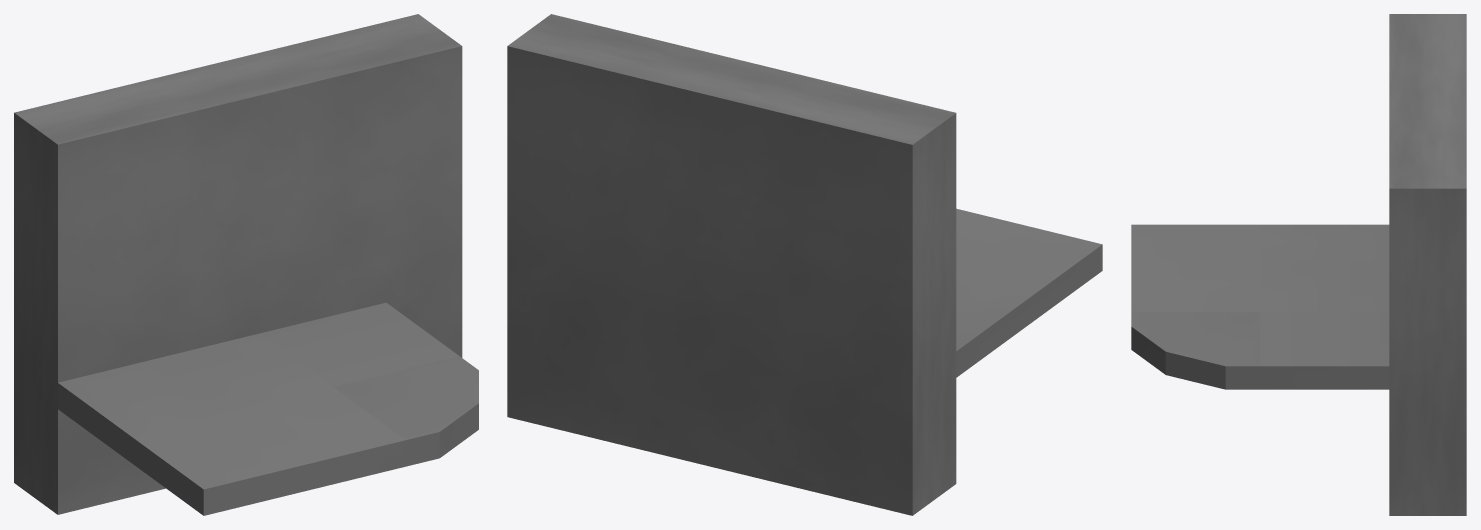
Rendered from dc_metro_fence_003.obj.
The picture shows the model from 3 angles, left to right: view 1: azimuth 30°, elevation 25°; view 2: azimuth 150°, elevation 25°; view 3: azimuth 270°, elevation 25°; orthographic projection. The views are drawn at different scales.
Visible parts, largest first — view 1: cube, cylinder; view 2: cube; view 3: cube, cylinder.
Boxes of the visible parts, x1,y1,x2,y2 form: cube: (14,14,462,515); cylinder: (333,356,478,474); cube: (507,14,1102,515); cube: (1131,14,1466,515); cylinder: (1131,311,1294,389).
Bounding box in the file's own units: 1 × 0.875 × 0.8125.
Materials: 1 (1 with a texture image).
